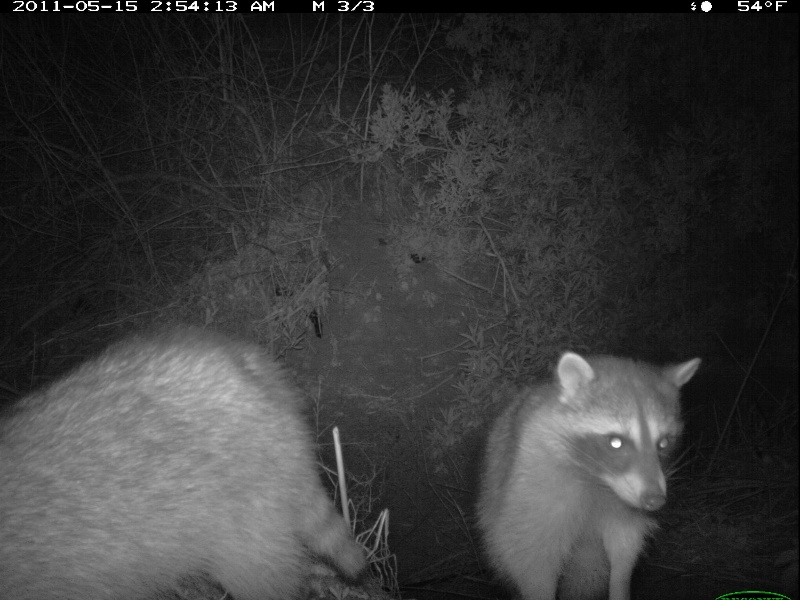raccoon: (5, 319, 369, 598), (471, 351, 710, 596)
